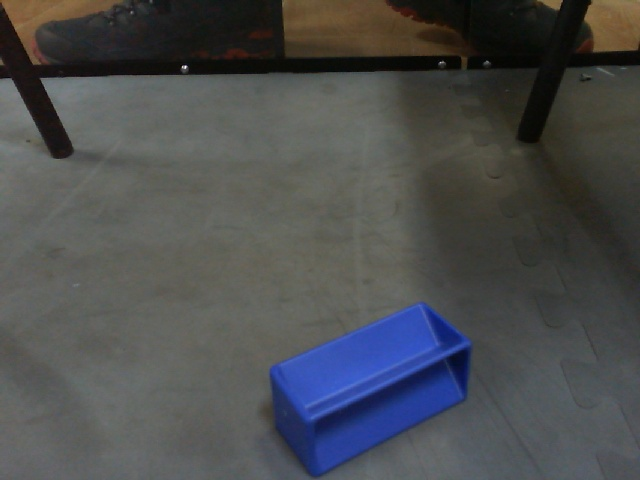BlueSample: (271, 297, 472, 477)
